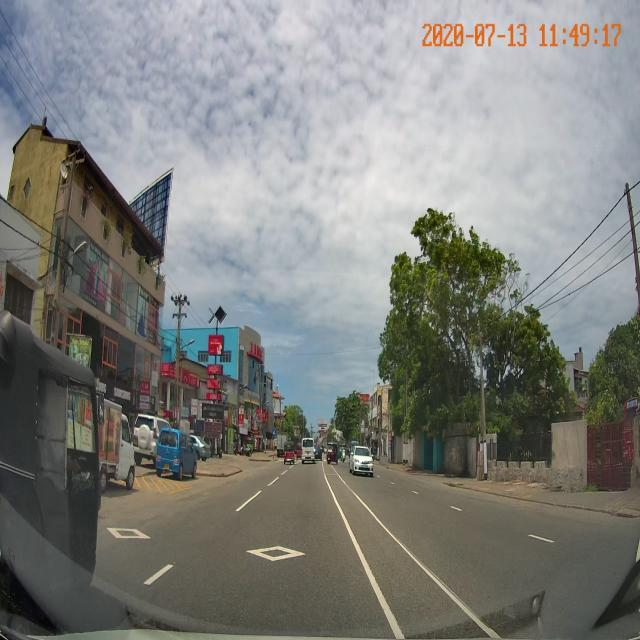diamond: (149, 525, 386, 597)
